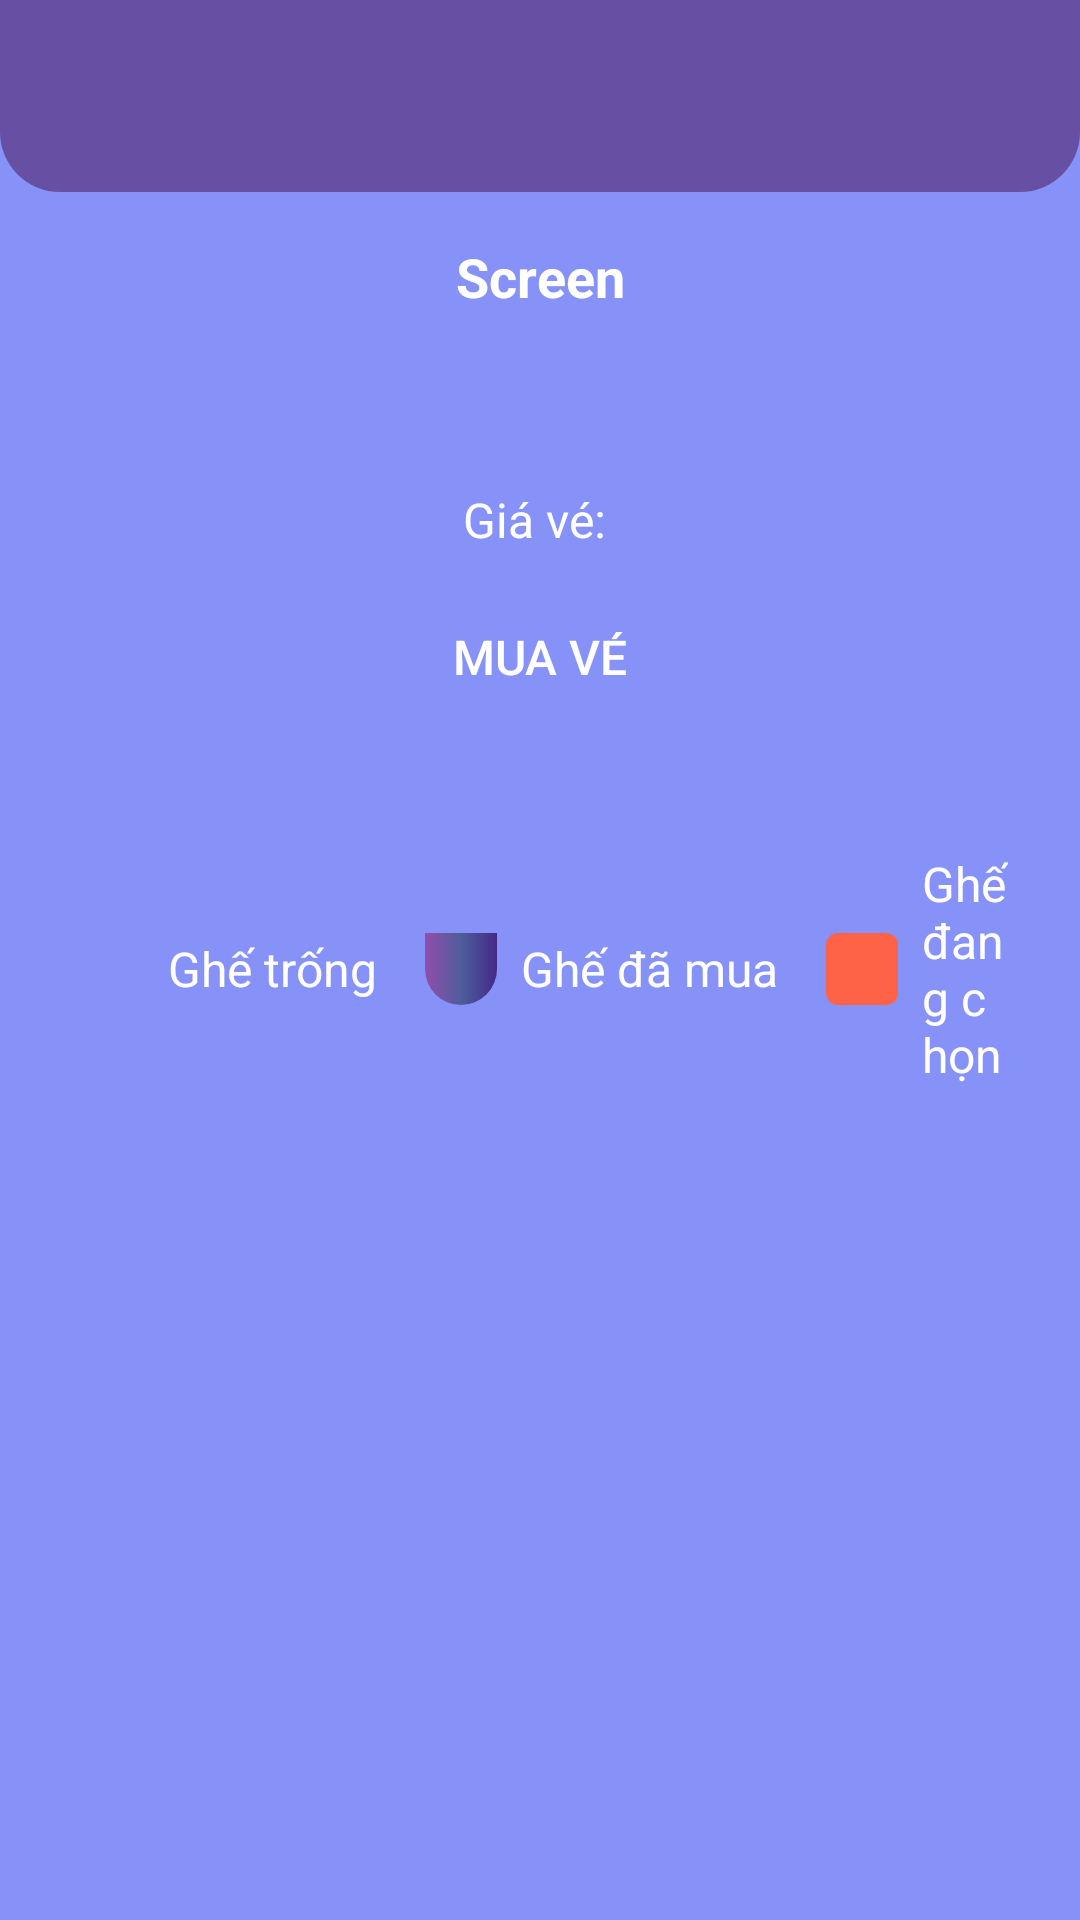

Screen size 1080px×1920px. Icon name, then its center in pixels as [x,y]:
tron mau: [461,969]
